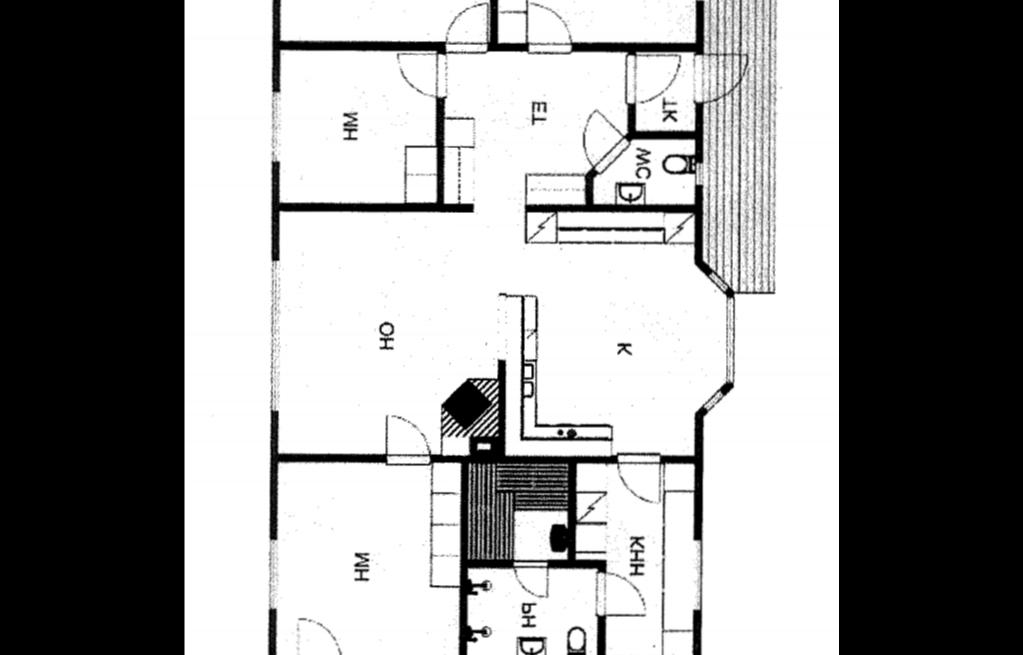door: (690, 50, 754, 104), (578, 108, 632, 171), (623, 51, 682, 107), (612, 447, 665, 504), (592, 569, 650, 621), (382, 410, 432, 465), (442, 0, 489, 58), (526, 1, 574, 57), (393, 52, 449, 97), (293, 615, 345, 655), (511, 558, 550, 602)
window: (267, 253, 283, 418), (722, 292, 738, 390), (264, 530, 282, 616), (266, 83, 283, 170), (689, 530, 705, 614), (699, 382, 726, 417), (706, 266, 732, 292), (692, 159, 705, 190)
